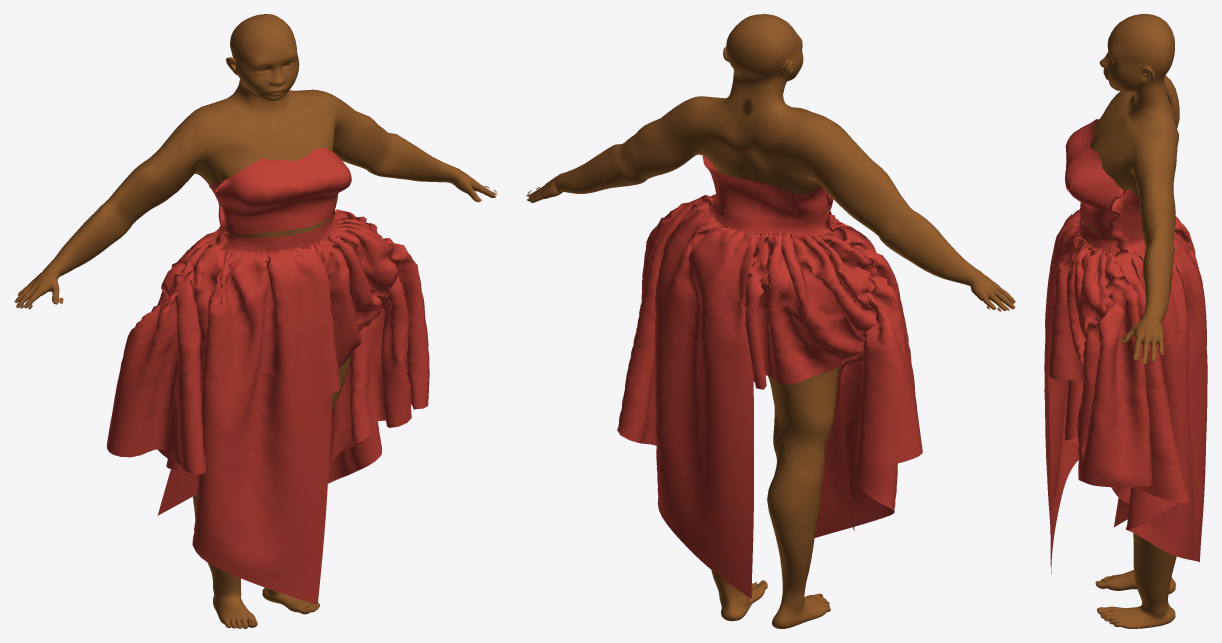
The model's file is dress2.glb.
The picture shows the model from 3 angles, left to right: view 1: azimuth 30°, elevation 25°; view 2: azimuth 150°, elevation 25°; view 3: azimuth 270°, elevation 25°; orthographic projection.
Parts seen in each view (by area): view 1: Project 1, Body; view 2: Project 1, Body; view 3: Project 1, Body.
Part boxes in pixels (x1,y1,x2,y2): Project 1: (106, 147, 429, 604); Body: (14, 14, 495, 628); Project 1: (617, 156, 922, 598); Body: (527, 14, 1015, 628); Project 1: (1044, 119, 1207, 573); Body: (1086, 14, 1179, 628).
Size of the model in its own units: 1.59 by 1.88 by 0.4668.
